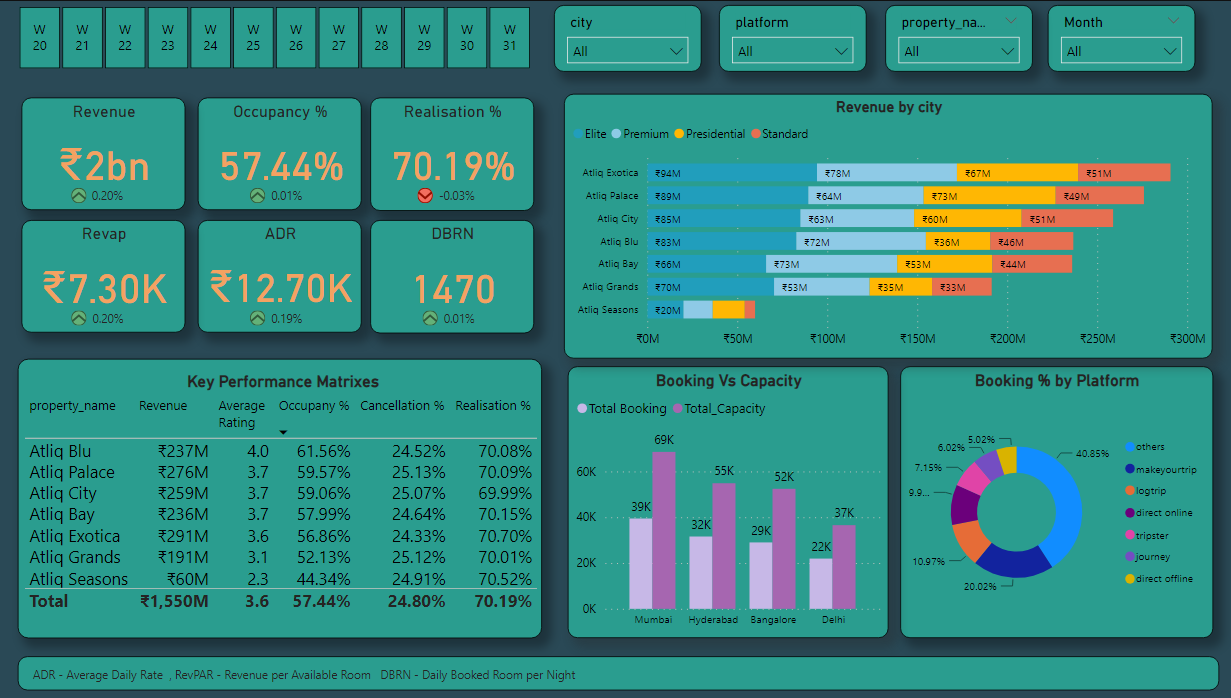

The dashboard page shown, as its layout file describes it:
{"tool":"powerbi","page":{"name":"Page 2","canvas":[1280,720],"ordinal":0},"visuals":[{"type":"tableEx","title":"Key Performance Matrixes","fields":{"Values":["dim_hotels.property_name","Key Measures.Revenue","Key Measures.Average Rating","Key Measures.Occupany %","Key Measures.Cancellation %","Key Measures.Realisation %"]},"box":[24.1,369,540.3,288.2],"z":0},{"type":"card","title":"Occupancy %","fields":{"Values":["Key Measures.Occupany %"]},"box":[209.9,100.7,168.8,115.8],"z":1000},{"type":"card","title":"Realisation %","fields":{"Values":["Key Measures.Realisation %"]},"box":[387.3,100.4,168.6,116.5],"z":2000},{"type":"donutChart","title":"Booking % by Platform","fields":{"Category":["fact_bookings.booking_platform"],"Y":["Key Measures.Booking % Platform"]},"box":[933.5,377.5,322,279.8],"z":3000},{"type":"clusteredColumnChart","title":"Booking Vs Capacity","fields":{"Category":["dim_hotels.city"],"Y":["Key Measures.Total Booking","Key Measures.Total_Capacity"]},"box":[591,377.5,330.5,279.8],"z":4000},{"type":"slicer","fields":{"Values":["dim_hotels.city"]},"box":[576.3,4.9,152.4,68.8],"z":5000},{"type":"slicer","fields":{"Values":["fact_bookings.booking_platform"]},"box":[747.2,4.9,152.4,68.8],"z":6000},{"type":"slicer","fields":{"Values":["dim_date.date.Variation.Date Hierarchy.Month"]},"box":[1085.1,4.9,152.4,68.8],"z":7000},{"type":"slicer","fields":{"Values":["dim_hotels.property_name"]},"box":[918,4.9,152.4,68.8],"z":8000},{"type":"barChart","title":"Revenue by city","fields":{"Category":["dim_hotels.property_name"],"Y":["Key Measures.Revenue"],"Series":["dim_rooms.room_class"]},"box":[587.3,96.5,668.1,272.6],"z":9000},{"type":"card","title":"Revenue","fields":{"Values":["Key Measures.Revenue"]},"box":[27.8,100.7,168.8,115.8],"z":11000},{"type":"tableEx","fields":{"Values":["Key Measures.Revenue WoW change %"]},"box":[68.6,162.5,93.4,67.6],"z":12000},{"type":"tableEx","fields":{"Values":["Key Measures.Occupancy WoW change %"]},"box":[252.9,162.5,83.6,67.6],"z":13000},{"type":"tableEx","fields":{"Values":["Key Measures.Realisation WoW change %"]},"box":[424.9,162.5,93.4,67.6],"z":14000},{"type":"card","title":"ADR","fields":{"Values":["Key Measures.ADR"]},"box":[209.8,226.7,168.8,115.8],"z":15000},{"type":"card","title":"DBRN","fields":{"Values":["Key Measures.DBRN"]},"box":[387.2,226.4,168.6,116.5],"z":16000},{"type":"card","title":"Revap","fields":{"Values":["Key Measures.Revap"]},"box":[27.7,226.7,168.8,115.8],"z":17000},{"type":"tableEx","fields":{"Values":["Key Measures.Revpar WoW change %"]},"box":[68.5,288.5,93.4,67.6],"z":18000},{"type":"tableEx","fields":{"Values":["Key Measures.ADR WoW change %"]},"box":[252.8,288.5,83.6,67.6],"z":19000},{"type":"tableEx","fields":{"Values":["Key Measures.DBRN WoW change %"]},"box":[429.9,289,83.6,67.6],"z":20000},{"type":"slicer","fields":{"Values":["dim_date.week no"]},"box":[0,0,576.3,77.4],"z":21000},{"type":"textbox","box":[24.1,675.4,1237.4,35],"z":22000}]}

Visuals, with their boxes in screenshot pixels (x1, y1, x2, y2), scaled from the page's 1280x720 canvas onto the 1231x698 screenshot:
"Key Performance Matrixes" tableEx: [23, 358, 543, 637]
"Occupancy %" card: [202, 98, 364, 210]
"Realisation %" card: [372, 97, 535, 210]
"Booking % by Platform" donutChart: [898, 366, 1207, 637]
"Booking Vs Capacity" clusteredColumnChart: [568, 366, 886, 637]
slicer - dim_hotels.city: [554, 5, 701, 71]
slicer - fact_bookings.booking_platform: [719, 5, 865, 71]
slicer - dim_date.date.Variation.Date Hierarchy.Month: [1044, 5, 1190, 71]
slicer - dim_hotels.property_name: [883, 5, 1029, 71]
"Revenue by city" barChart: [565, 94, 1207, 358]
"Revenue" card: [27, 98, 189, 210]
tableEx - Key Measures.Revenue WoW change %: [66, 158, 156, 223]
tableEx - Key Measures.Occupancy WoW change %: [243, 158, 324, 223]
tableEx - Key Measures.Realisation WoW change %: [409, 158, 498, 223]
"ADR" card: [202, 220, 364, 332]
"DBRN" card: [372, 219, 535, 332]
"Revap" card: [27, 220, 189, 332]
tableEx - Key Measures.Revpar WoW change %: [66, 280, 156, 345]
tableEx - Key Measures.ADR WoW change %: [243, 280, 324, 345]
tableEx - Key Measures.DBRN WoW change %: [413, 280, 494, 346]
slicer - dim_date.week no: [0, 0, 554, 75]
textbox: [23, 655, 1213, 689]
